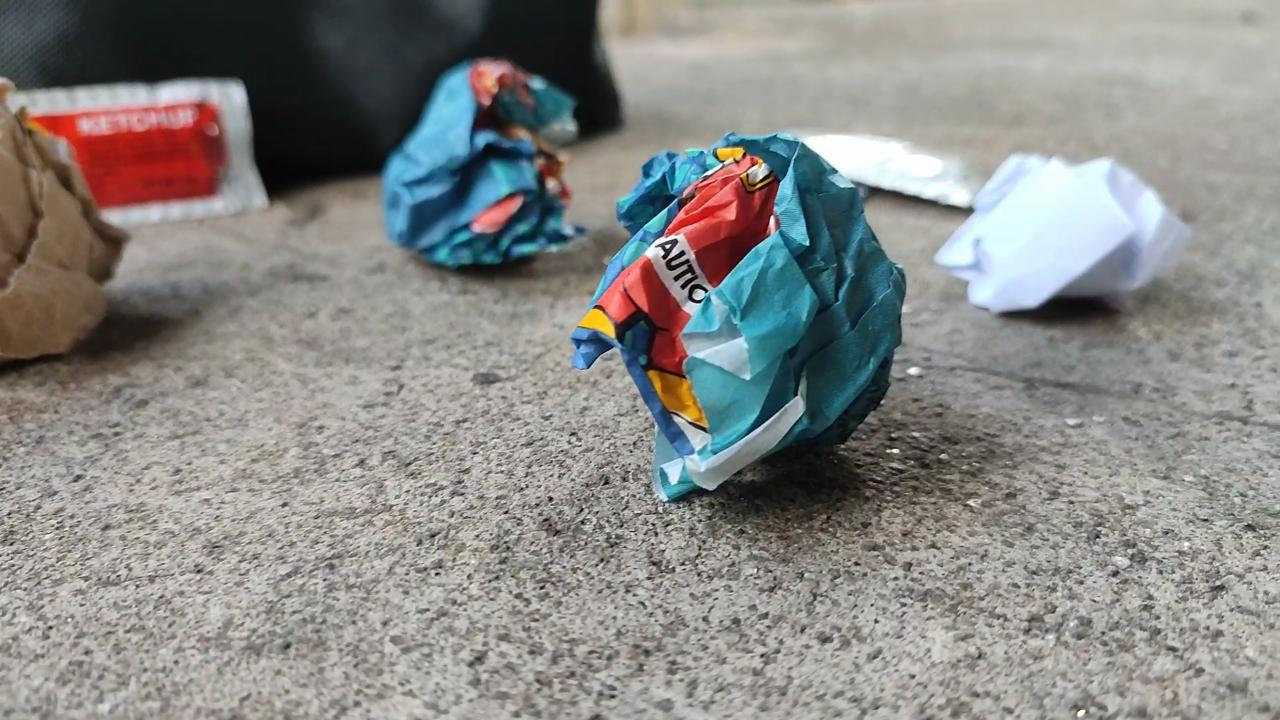paper: (572, 134, 904, 499), (383, 58, 582, 267), (935, 154, 1189, 311)
